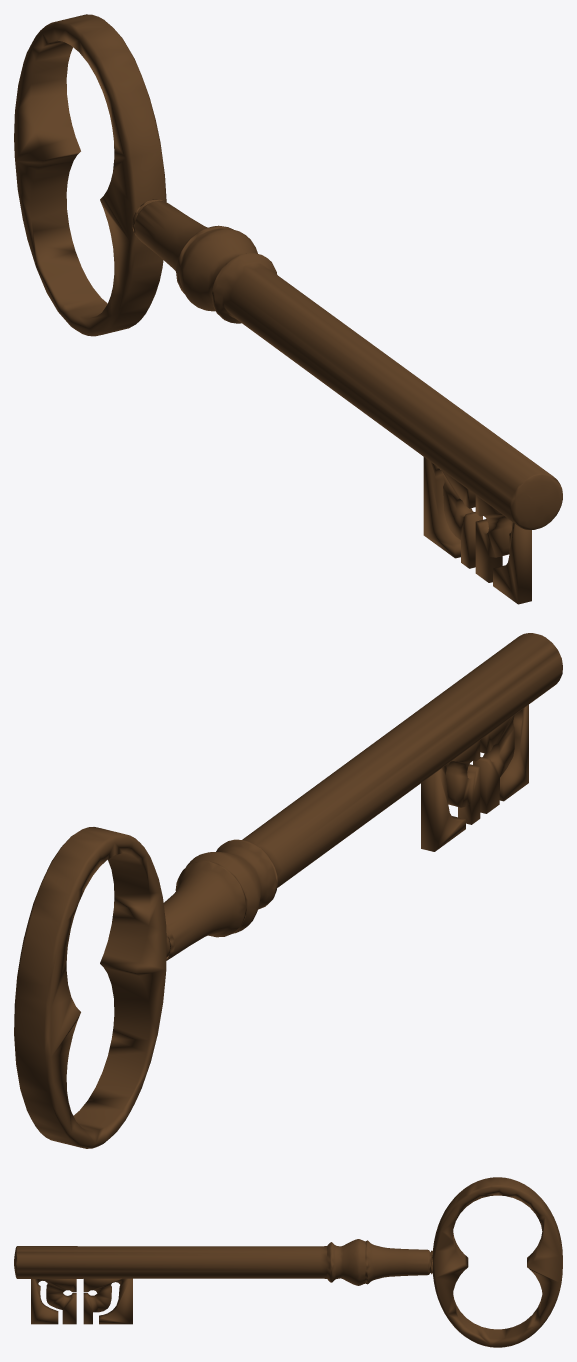
File: manor_key.glb
3 views of the same model, one above another, from view 1: azimuth 30°, elevation 25°; view 2: azimuth 150°, elevation 25°; view 3: azimuth 270°, elevation 25° (orthographic). The views are drawn at different scales.
Parts seen in each view (by area): view 1: Box007_Material #30_0; view 2: Box007_Material #30_0; view 3: Box007_Material #30_0.
Boxes of the visible parts, x1=… form: Box007_Material #30_0: x1=14, y1=14, x2=562, y2=604; Box007_Material #30_0: x1=14, y1=633, x2=562, y2=1148; Box007_Material #30_0: x1=14, y1=1177, x2=562, y2=1347.
Size of the model in its own units: 0.0137 by 0.0526 by 0.1606.
